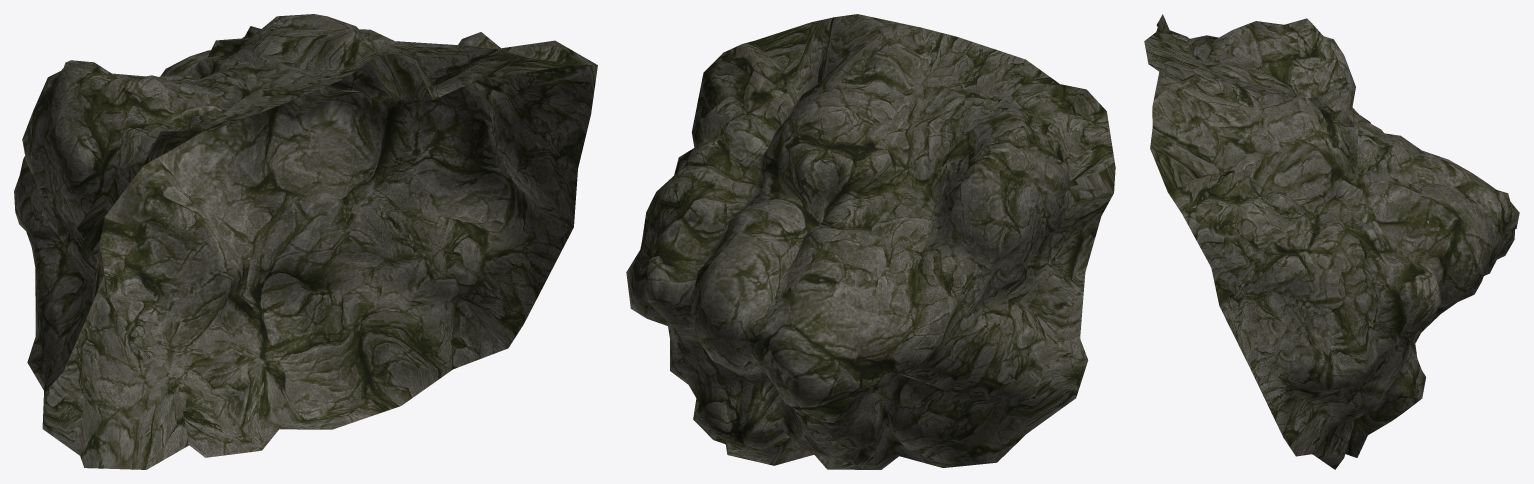
File: TI_Cliff_01_m.fbx
3 views of the same model, side by side, from view 1: azimuth 30°, elevation 25°; view 2: azimuth 150°, elevation 25°; view 3: azimuth 270°, elevation 25° (orthographic). The views are drawn at different scales.
Visible parts, largest first — view 1: TI_Cliff_01_m; view 2: TI_Cliff_01_m; view 3: TI_Cliff_01_m.
Part boxes in pixels (<box>): TI_Cliff_01_m: <box>14,14,597,469</box>; TI_Cliff_01_m: <box>626,14,1115,469</box>; TI_Cliff_01_m: <box>1144,14,1519,469</box>.
Bounding box in the file's own units: 8.79 × 7.57 × 7.33.
